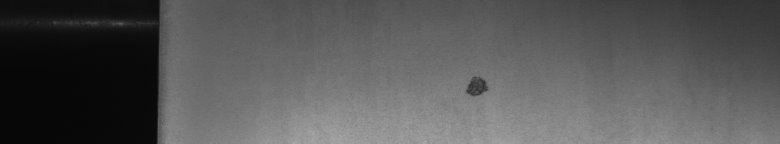fi: (460, 68, 493, 104)
